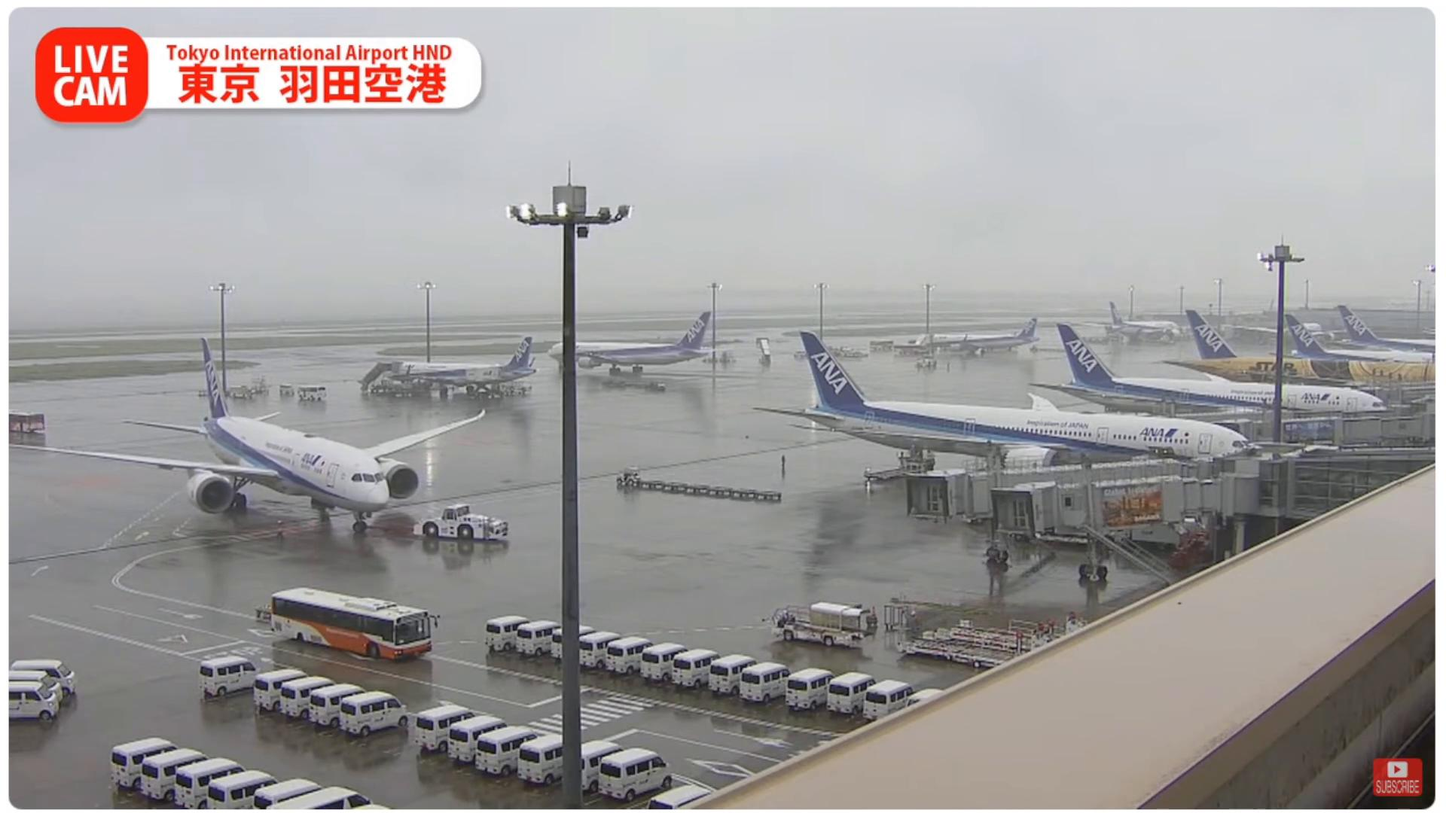APS: (412, 504, 509, 540)
Aerobridge: (904, 455, 1210, 522), (991, 474, 1261, 535)
Airplane: (8, 338, 487, 532)
JCPL: (924, 615, 1087, 656), (895, 630, 1024, 671)
Skyloader: (762, 598, 878, 648)
Window: (1292, 458, 1433, 516)
